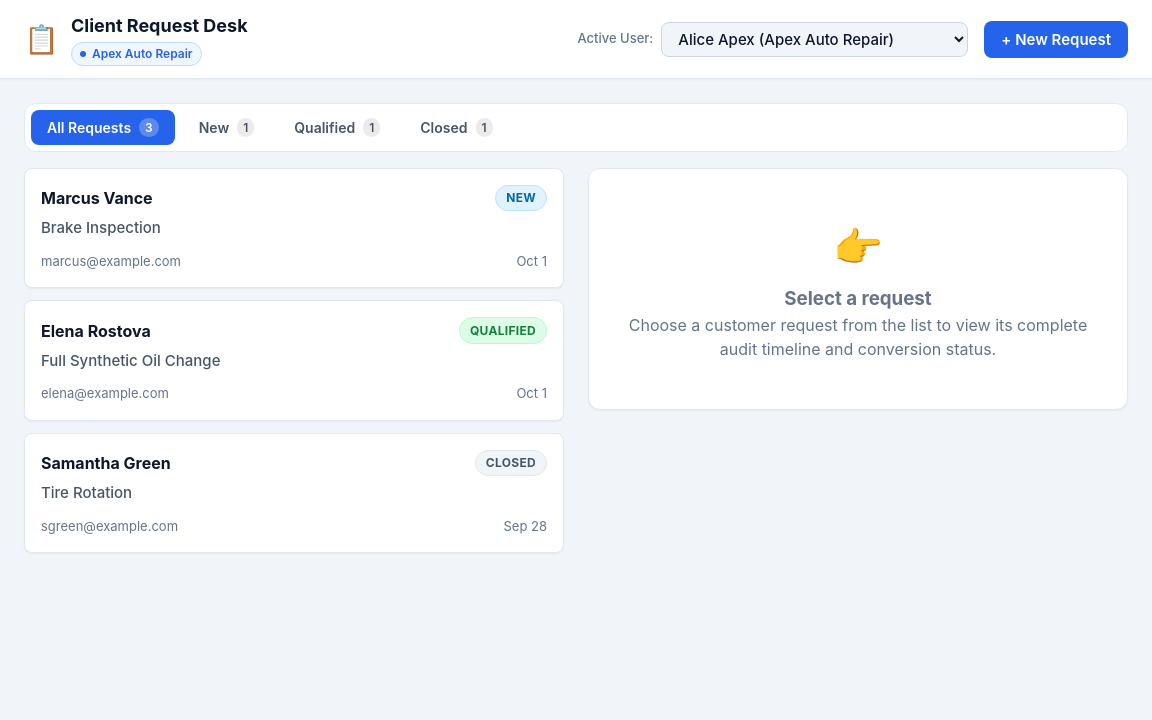
Client Request Desk Frontend Application › displays request details and activity timeline when a request is selected
The image size is (1152, 720).
Click on Elena's request card
Step 1. Click the text "Elena Rostova" → (96, 331), box 41,319 -> 151,343
(page scrolled)
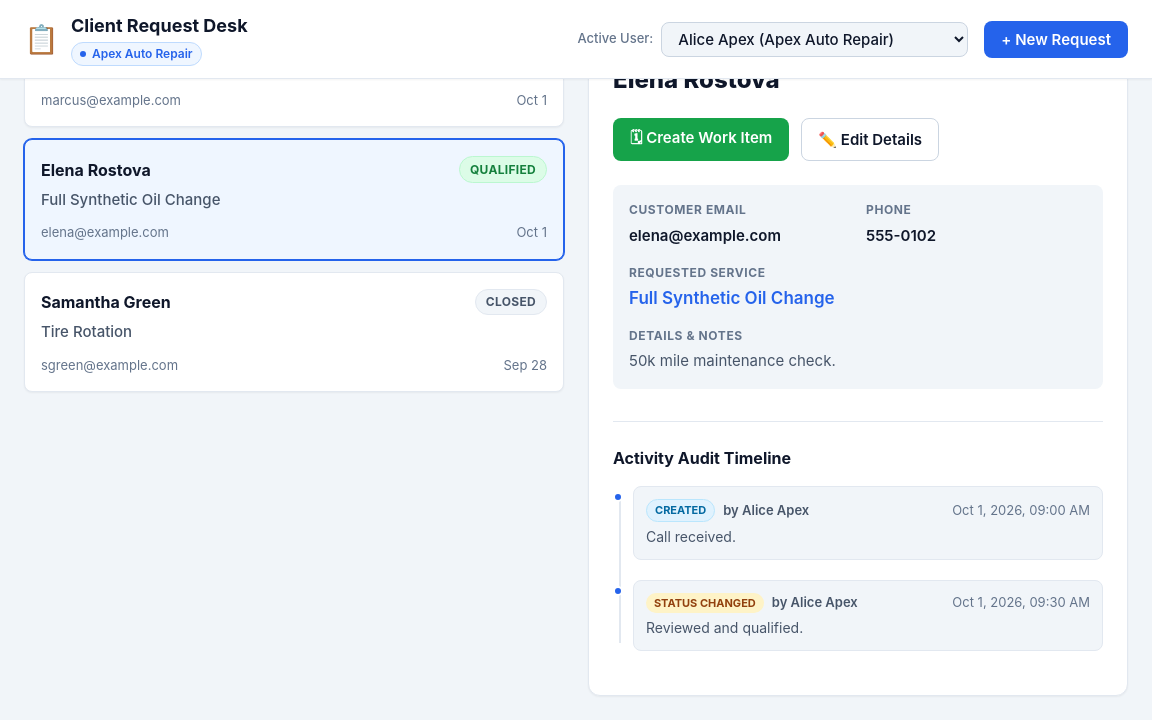
Check: the heading with test id "detail-customer-name" reads "Elena Rostova", box 613,65 -> 780,94
Check: the text with test id "detail-email" reads "elena@example.com", box 629,226 -> 781,245
Check: the text with test id "detail-service" reads "Full Synthetic Oil Change", box 629,288 -> 835,308
